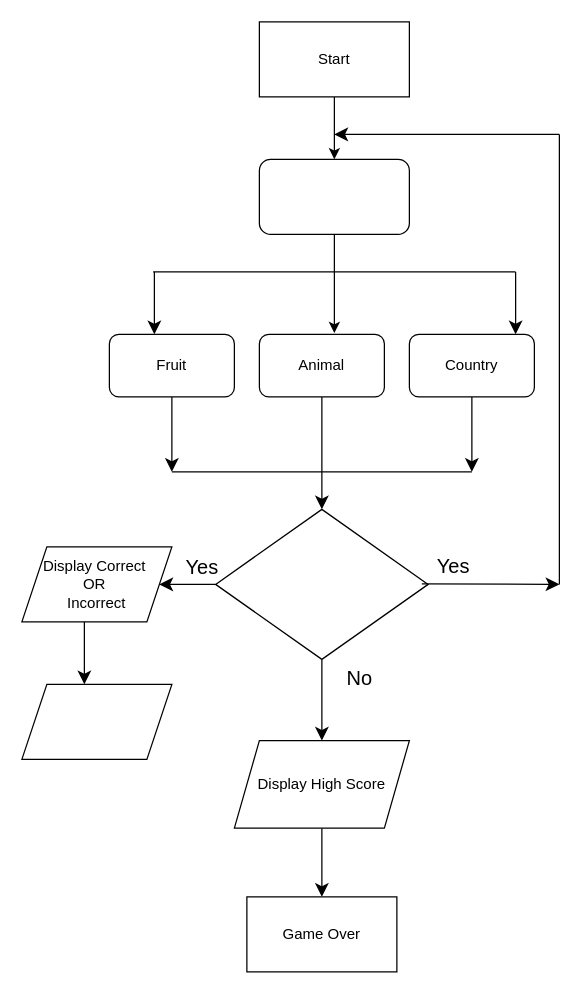
This 583x994 diagram has some shape labels left out. Here are the shapes that lost their labels. From the top down, the box of each, then its label:
(258, 158, 409, 234): Select Category
(214, 508, 428, 659): Question === Answer ? Or More Question?
(21, 683, 172, 759): Display Score
